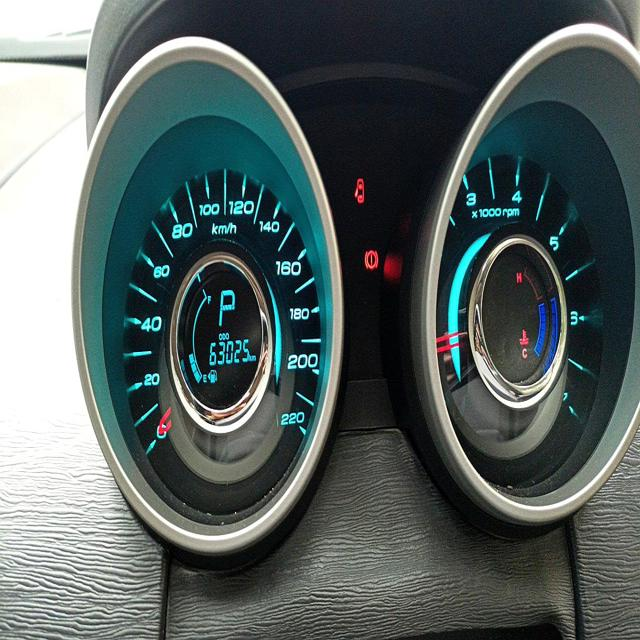odometer: (207, 333, 252, 367)
